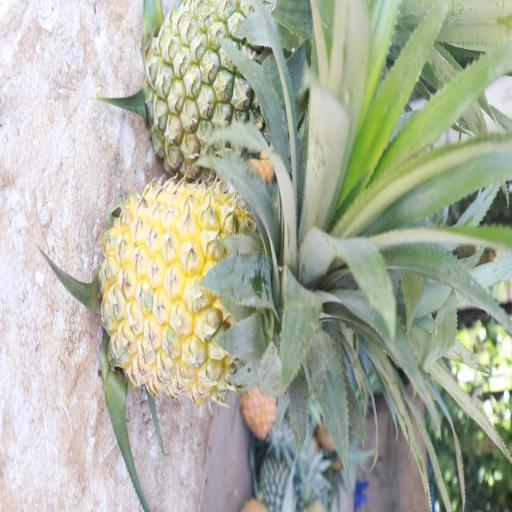------------------------------: (146, 0, 319, 179)
Pineapple - v8 v1: (104, 182, 293, 402), (238, 370, 280, 439)
